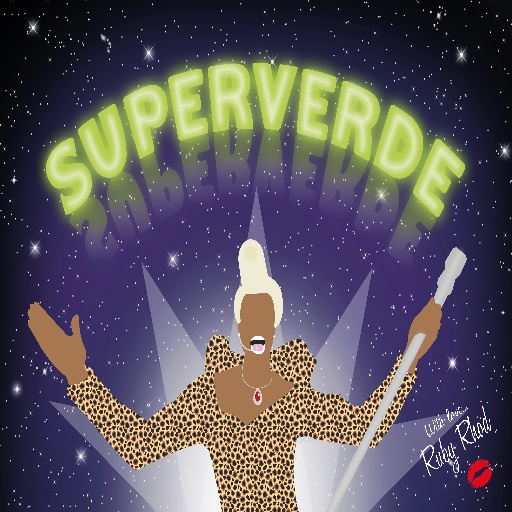hand: (27, 301, 86, 379), (407, 295, 442, 359)
